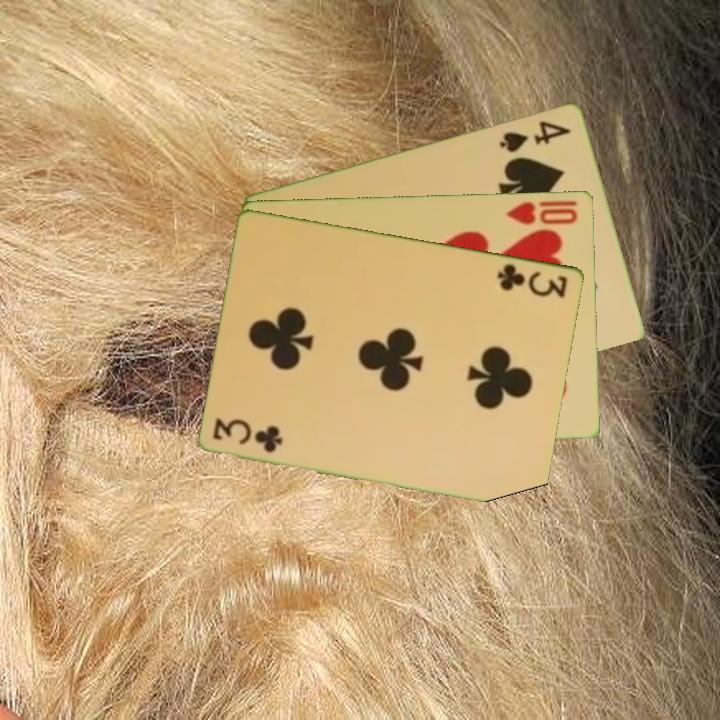10h: (503, 197, 581, 227)
3c: (210, 415, 286, 456), (494, 260, 571, 300)
4s: (496, 116, 574, 155)
